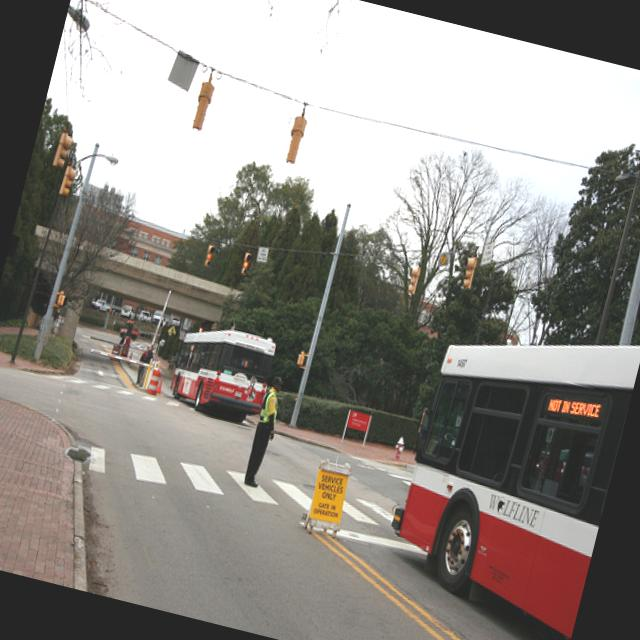Vehicle: (371, 290, 640, 640), (160, 317, 278, 428), (88, 296, 111, 314), (119, 302, 138, 322), (135, 308, 152, 322), (150, 308, 164, 324), (168, 315, 180, 327)
